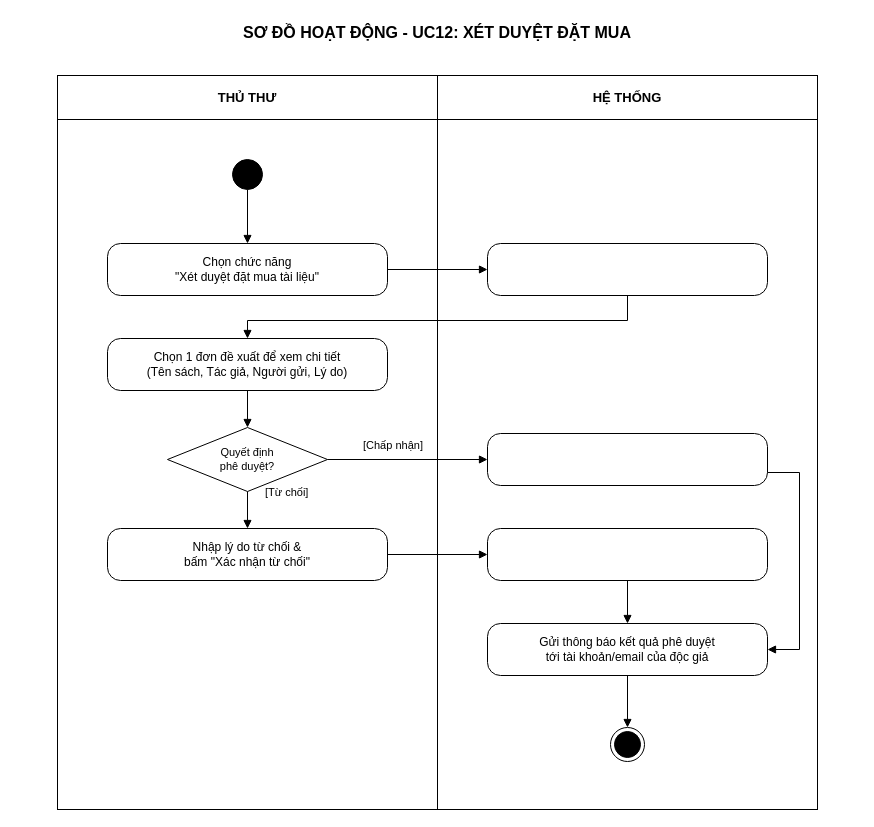
Image size: 874x827. Some labels were removed from this diagram. Here are the shapes that lost their labels. From the top down, the centre of each, then its label:
pixel 627 269: Hiển thị danh sách các đơn đề xuất đang ở trạng thái "Chờ duyệt"
pixel 627 459: Cập nhật trạng thái "Đã chấp nhận", thêm vào danh mục dự trù mua sắm
pixel 627 554: Cập nhật trạng thái "Từ chối" & lưu lý do từ chối vào CSDL
